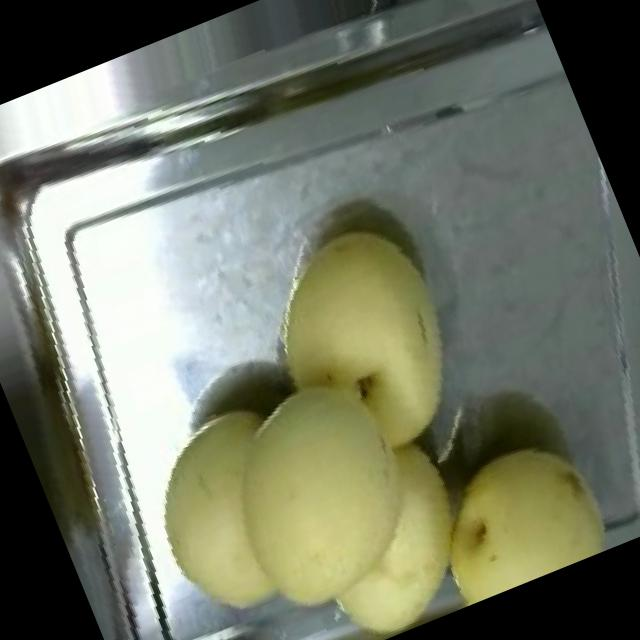Fruit: (105, 317, 519, 640), (232, 193, 504, 497), (379, 396, 640, 618)
